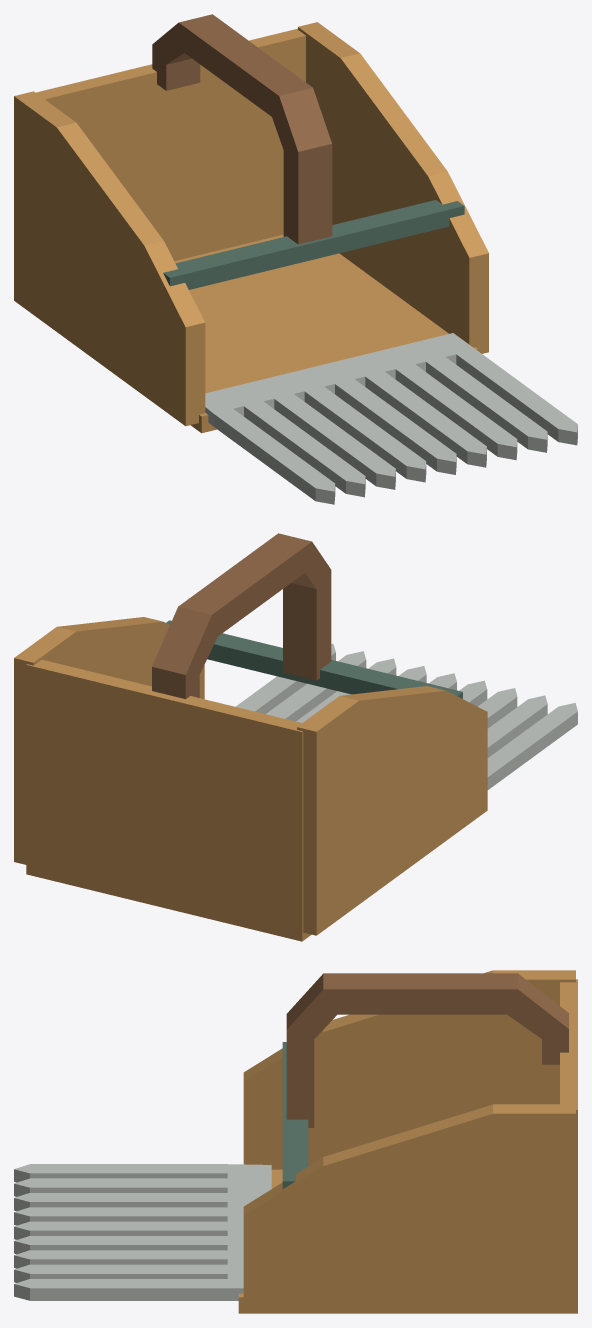
3 views of the same model, one above another, from view 1: azimuth 30°, elevation 25°; view 2: azimuth 150°, elevation 25°; view 3: azimuth 270°, elevation 25° (orthographic). The views are drawn at different scales.
Visible parts, largest first — view 1: WholeCollectionFloorAndHighBack, WholeNineBluntToothAndRearRootComb, WholeHighSlopingCollectionCheek0, WholeHighSlopingCollectionCheek1, WholeLongitudinalOverCavityArchGrip, WholeForwardCrossCavityHandleSeat; view 2: WholeCollectionFloorAndHighBack, WholeHighSlopingCollectionCheek0, WholeLongitudinalOverCavityArchGrip, WholeNineBluntToothAndRearRootComb, WholeHighSlopingCollectionCheek1, WholeForwardCrossCavityHandleSeat; view 3: WholeHighSlopingCollectionCheek1, WholeNineBluntToothAndRearRootComb, WholeHighSlopingCollectionCheek0, WholeLongitudinalOverCavityArchGrip, WholeCollectionFloorAndHighBack, WholeForwardCrossCavityHandleSeat.
Part boxes in pixels (bbox=[...]): WholeCollectionFloorAndHighBack: bbox=[36, 28, 478, 433]; WholeNineBluntToothAndRearRootComb: bbox=[205, 333, 577, 504]; WholeHighSlopingCollectionCheek0: bbox=[14, 91, 205, 426]; WholeHighSlopingCollectionCheek1: bbox=[298, 22, 488, 353]; WholeLongitudinalOverCavityArchGrip: bbox=[152, 14, 332, 244]; WholeForwardCrossCavityHandleSeat: bbox=[163, 200, 464, 289]; WholeCollectionFloorAndHighBack: bbox=[26, 659, 311, 941]; WholeHighSlopingCollectionCheek0: bbox=[297, 686, 487, 935]; WholeLongitudinalOverCavityArchGrip: bbox=[152, 533, 331, 699]; WholeNineBluntToothAndRearRootComb: bbox=[235, 643, 577, 789]; WholeHighSlopingCollectionCheek1: bbox=[14, 617, 204, 864]; WholeForwardCrossCavityHandleSeat: bbox=[166, 620, 462, 698]; WholeHighSlopingCollectionCheek1: bbox=[243, 1104, 575, 1311]; WholeNineBluntToothAndRearRootComb: bbox=[14, 1164, 271, 1300]; WholeHighSlopingCollectionCheek0: bbox=[243, 970, 575, 1169]; WholeLongitudinalOverCavityArchGrip: bbox=[286, 973, 568, 1127]; WholeCollectionFloorAndHighBack: bbox=[238, 979, 577, 1313]; WholeForwardCrossCavityHandleSeat: bbox=[282, 1042, 308, 1188].
Size of the model in its own units: 0.34 by 0.295 by 0.565.
